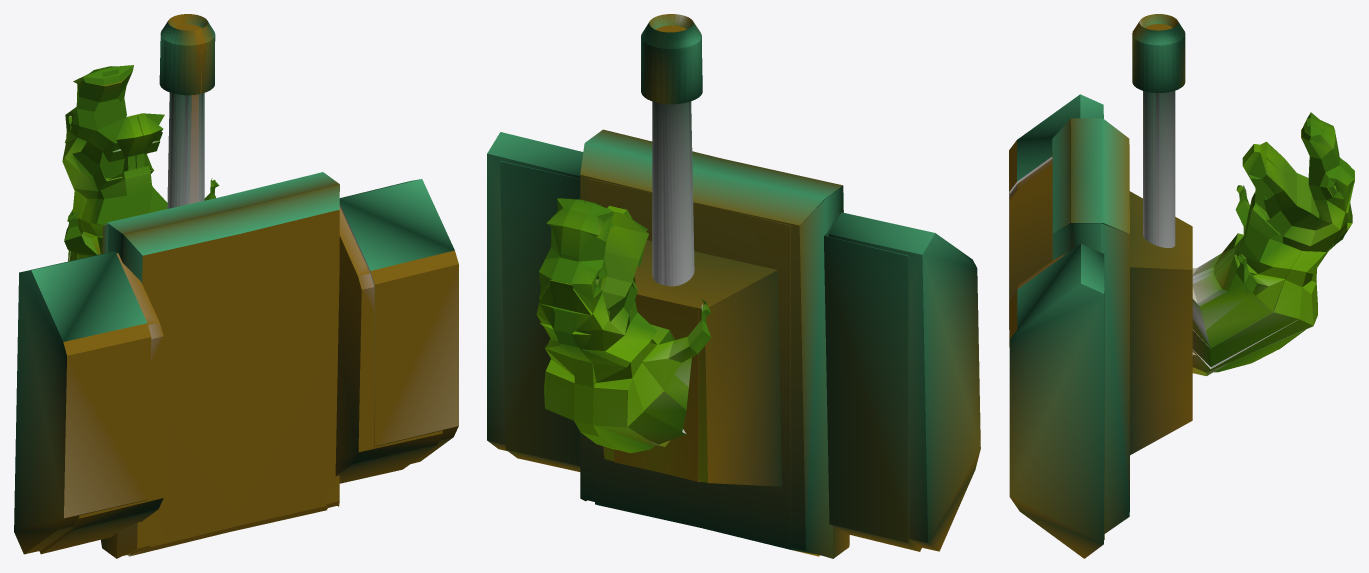
File: tanque.fbx
3 renders of one model, left to right at view 1: azimuth 30°, elevation 25°; view 2: azimuth 150°, elevation 25°; view 3: azimuth 270°, elevation 25°, orthographic. The views are drawn at different scales.
Visible parts, largest first — view 1: torre-tanque, torre-tanqueDino; view 2: torre-tanque, torre-tanqueDino; view 3: torre-tanque, torre-tanqueDino.
Part boxes in pixels (<box>): torre-tanque: <box>14,70,458,558</box>; torre-tanqueDino: <box>62,14,219,261</box>; torre-tanque: <box>487,129,980,558</box>; torre-tanqueDino: <box>536,14,781,486</box>; torre-tanque: <box>1009,94,1322,558</box>; torre-tanqueDino: <box>1129,14,1354,455</box>.
Size of the model in its own units: 940 by 1084 by 732.
